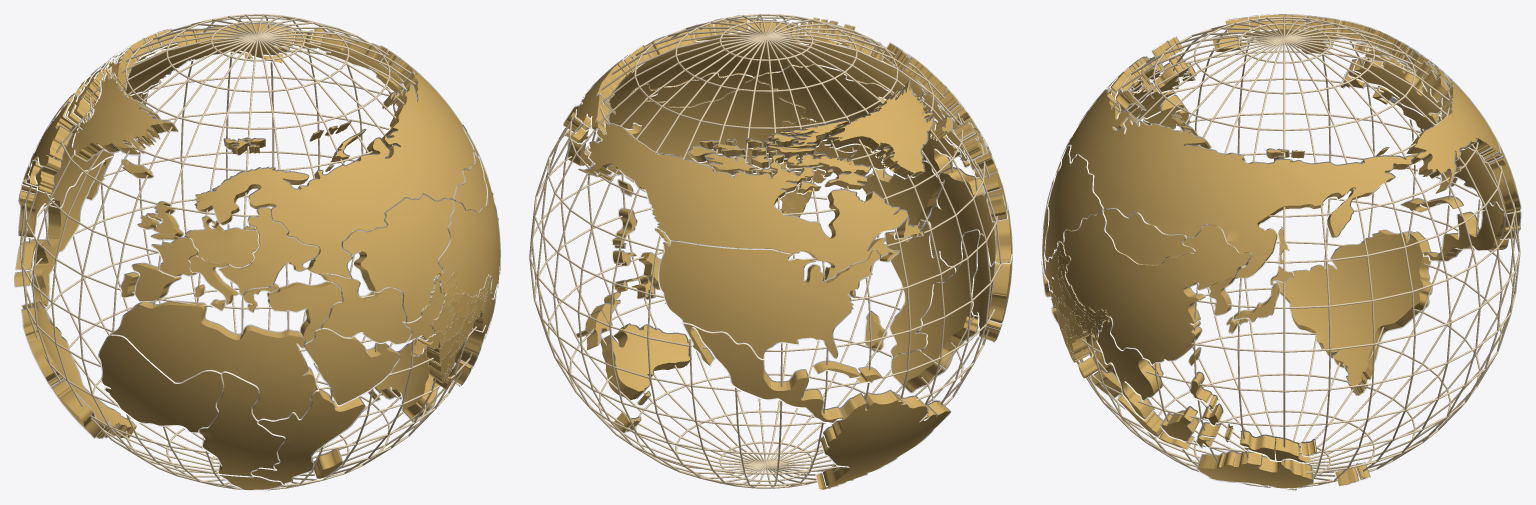
Rendered from lastHopeGlobe.gltf.
The picture shows the model from 3 angles, left to right: view 1: azimuth 30°, elevation 25°; view 2: azimuth 150°, elevation 25°; view 3: azimuth 270°, elevation 25°; orthographic projection.
Visible parts, largest first — view 1: circumpolar, frame, north-african, central-asia, east-african.001, east-african, central-african, south american, chinese, middle-east, iranian, mexican (+12 smaller); view 2: circumpolar, frame, american, chinese, south american, central-asia, mexican, north-african, east-african, australia, central-african, east-african.001 (+6 smaller); view 3: circumpolar, frame, chinese, south american, south-east, central-asia, australia, mexican, american, japanese, east-african, papua (+3 smaller).
Part boxes in pixels (left/top/right/bottom): circumpolar: left=25, top=22, right=475, bottom=279; frame: left=20, top=14, right=477, bottom=490; north-african: left=109, top=300, right=319, bottom=421; central-asia: left=342, top=150, right=487, bottom=323; east-african.001: left=98, top=335, right=224, bottom=433; east-african: left=251, top=384, right=365, bottom=484; central-african: left=198, top=372, right=285, bottom=477; south american: left=21, top=301, right=136, bottom=440; chinese: left=439, top=125, right=500, bottom=299; middle-east: left=304, top=329, right=400, bottom=406; iranian: left=320, top=274, right=412, bottom=344; mexican: left=14, top=155, right=113, bottom=309; circumpolar: left=562, top=15, right=963, bottom=280; frame: left=529, top=14, right=1001, bottom=488; american: left=654, top=228, right=880, bottom=359; chinese: left=609, top=78, right=805, bottom=182; south american: left=815, top=389, right=951, bottom=490; central-asia: left=646, top=64, right=892, bottom=152; mexican: left=682, top=323, right=882, bottom=423; north-african: left=927, top=167, right=1012, bottom=270; east-african: left=864, top=221, right=955, bottom=358; australia: left=599, top=323, right=691, bottom=433; central-african: left=915, top=229, right=980, bottom=369; east-african.001: left=971, top=233, right=1012, bottom=342; circumpolar: left=1053, top=14, right=1501, bottom=279; frame: left=1076, top=16, right=1520, bottom=487; chinese: left=1062, top=209, right=1251, bottom=365; south american: left=1276, top=229, right=1432, bottom=396; south-east: left=1096, top=316, right=1276, bottom=461; central-asia: left=1044, top=144, right=1195, bottom=265; australia: left=1196, top=450, right=1370, bottom=490; mexican: left=1400, top=195, right=1521, bottom=261; american: left=1389, top=96, right=1521, bottom=214; japanese: left=1226, top=265, right=1293, bottom=334; east-african: left=1051, top=306, right=1121, bottom=398; papua: left=1275, top=436, right=1317, bottom=463.
Bounding box in the file's own units: 0.612 × 0.612 × 0.6219.
